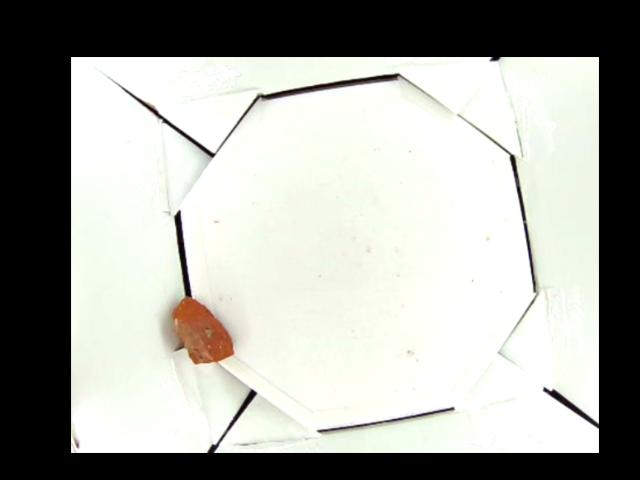Brisk: (176, 295, 234, 362)
